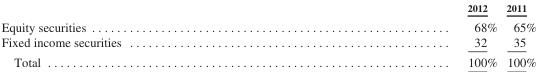table: (0, 1, 535, 68)
table column: (0, 1, 293, 68), (293, 1, 501, 68), (501, 1, 535, 68)
table column header: (0, 1, 535, 16)
table row: (0, 16, 535, 34), (0, 34, 535, 51), (0, 51, 535, 68), (0, 1, 535, 16)
